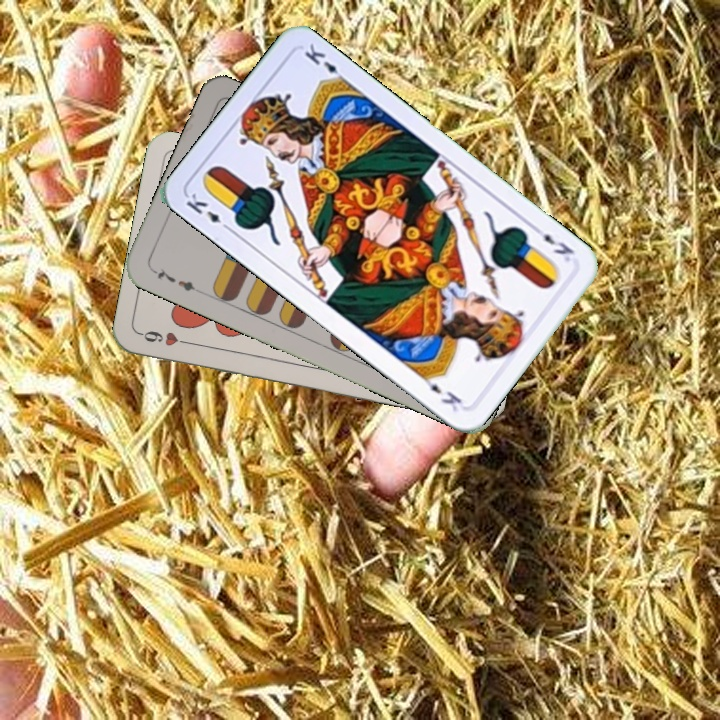E7: (148, 263, 204, 296)
EK: (181, 189, 235, 234), (529, 222, 577, 265)
H9: (136, 327, 195, 349)
